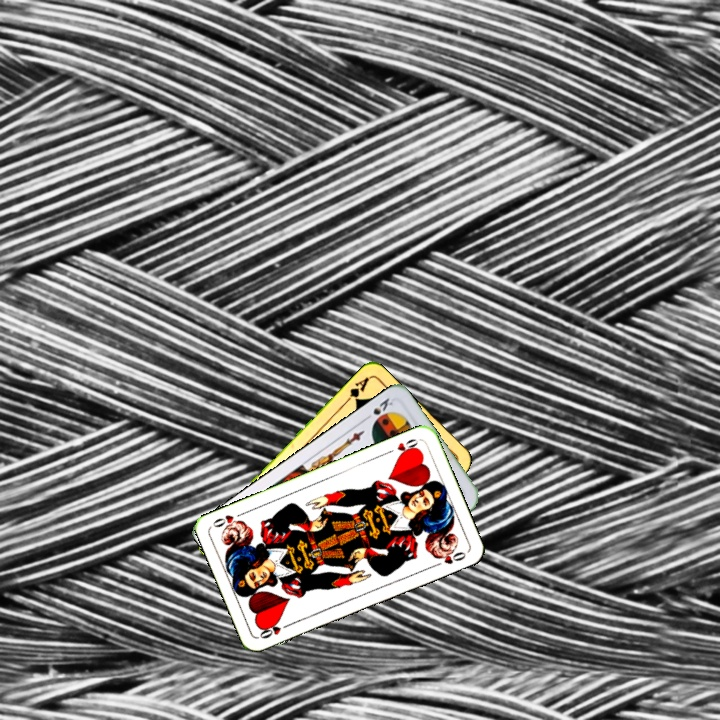GA: (340, 373, 372, 406)
HO: (383, 434, 422, 459), (256, 619, 294, 641)
SK: (360, 394, 395, 423)
